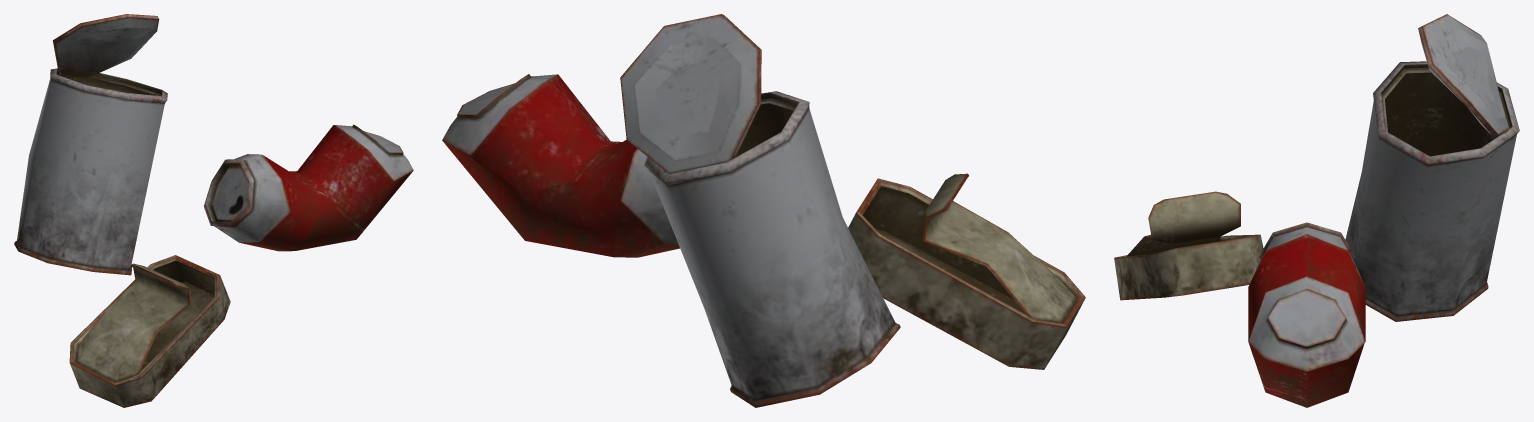
Rendered from can.glb.
The picture shows the model from 3 angles, left to right: view 1: azimuth 30°, elevation 25°; view 2: azimuth 150°, elevation 25°; view 3: azimuth 270°, elevation 25°; orthographic projection. The views are drawn at different scales.
Parts seen in each view (by area): view 1: Can_02_GEO; view 2: Can_02_GEO; view 3: Can_02_GEO.
Part boxes in pixels (x1,y1,x2,y2): Can_02_GEO: (14,14,413,407); Can_02_GEO: (442,14,1085,407); Can_02_GEO: (1114,14,1519,407).
Size of the model in its own units: 0.2834 by 0.1974 by 0.2136.
1 material, 1 textured.
